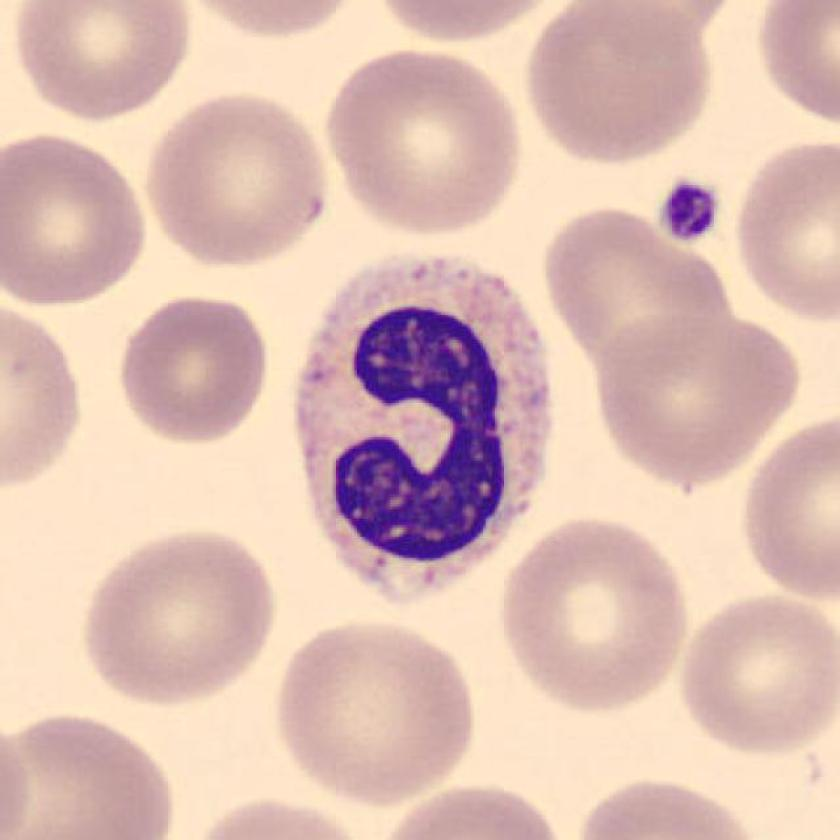neutrophil: (297, 261, 553, 603)
